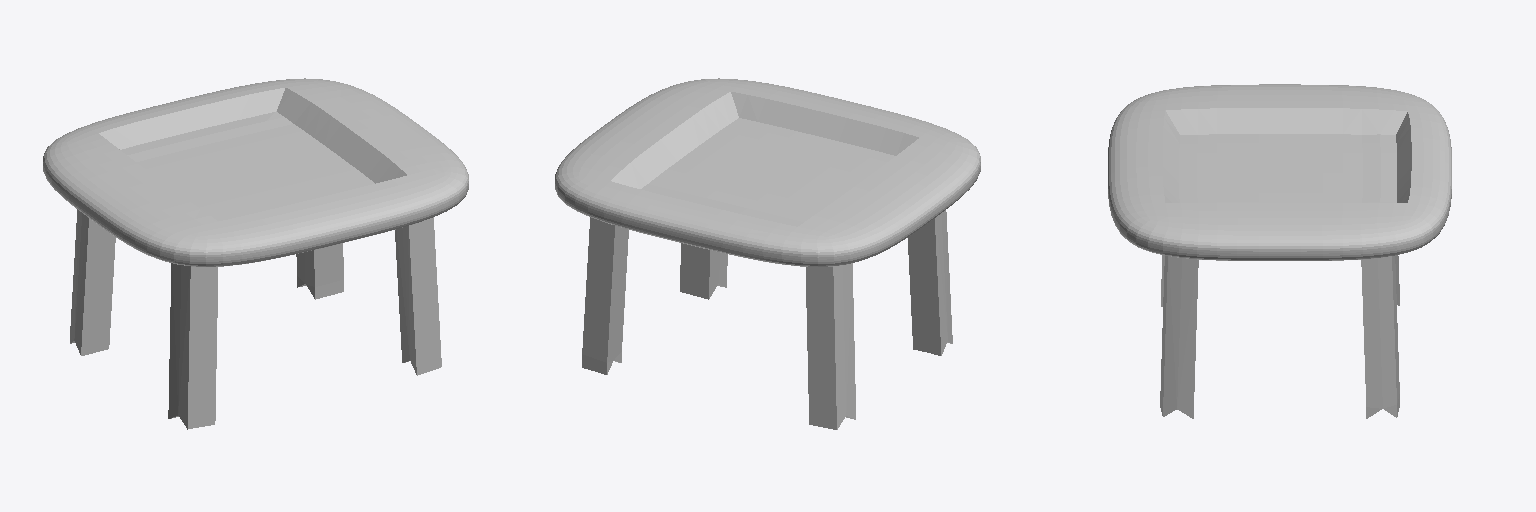
Rendered from 01_table.obj.
The picture shows the model from 3 angles: view 1: azimuth 30°, elevation 25°; view 2: azimuth 150°, elevation 25°; view 3: azimuth 270°, elevation 25°; orthographic projection.
Parts seen in each view (by area): view 1: Cube; view 2: Cube; view 3: Cube.
Part boxes in pixels (x1,y1,x2,y2): Cube: (43, 78, 468, 429); Cube: (555, 78, 980, 429); Cube: (1108, 84, 1451, 418).
Bounding box in the file's own units: 2.73 × 1.58 × 2.46.